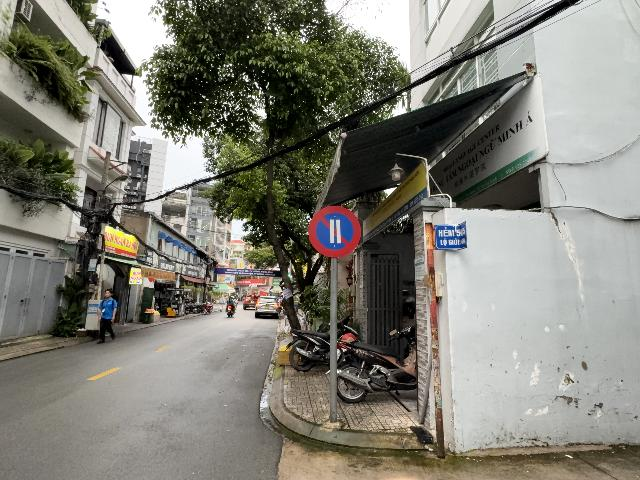cam-do-xe-ngay-chan: (309, 205, 360, 257)
